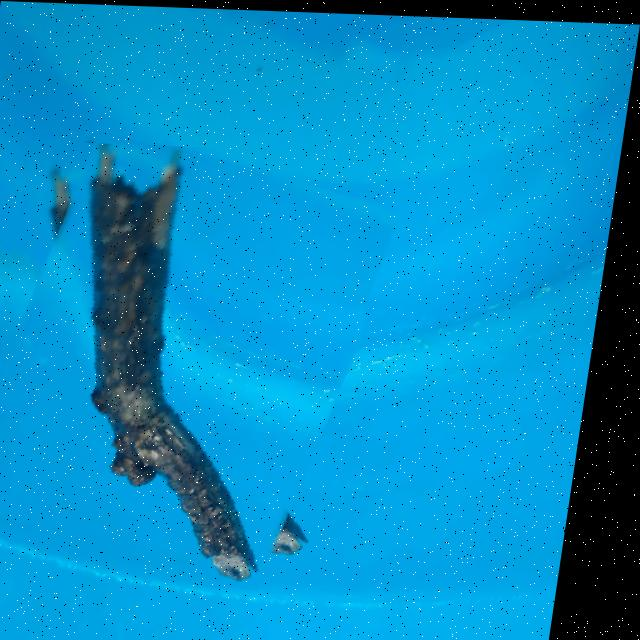litter: (0, 139, 393, 573)
